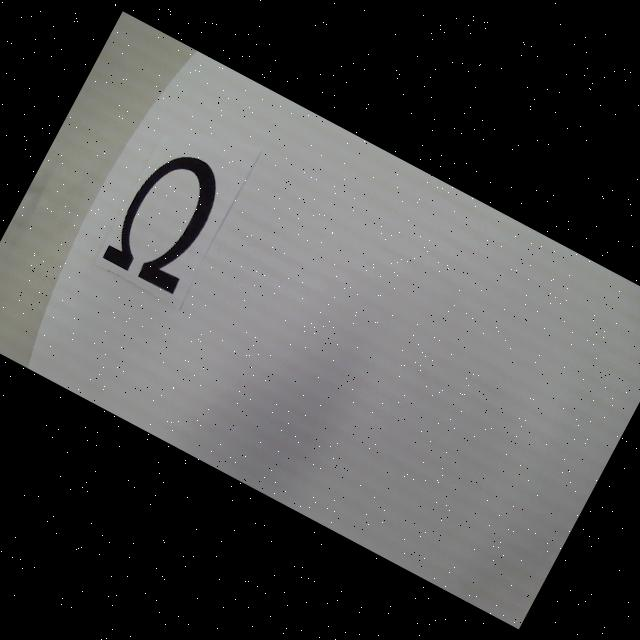OMEGA: (101, 140, 233, 296)
